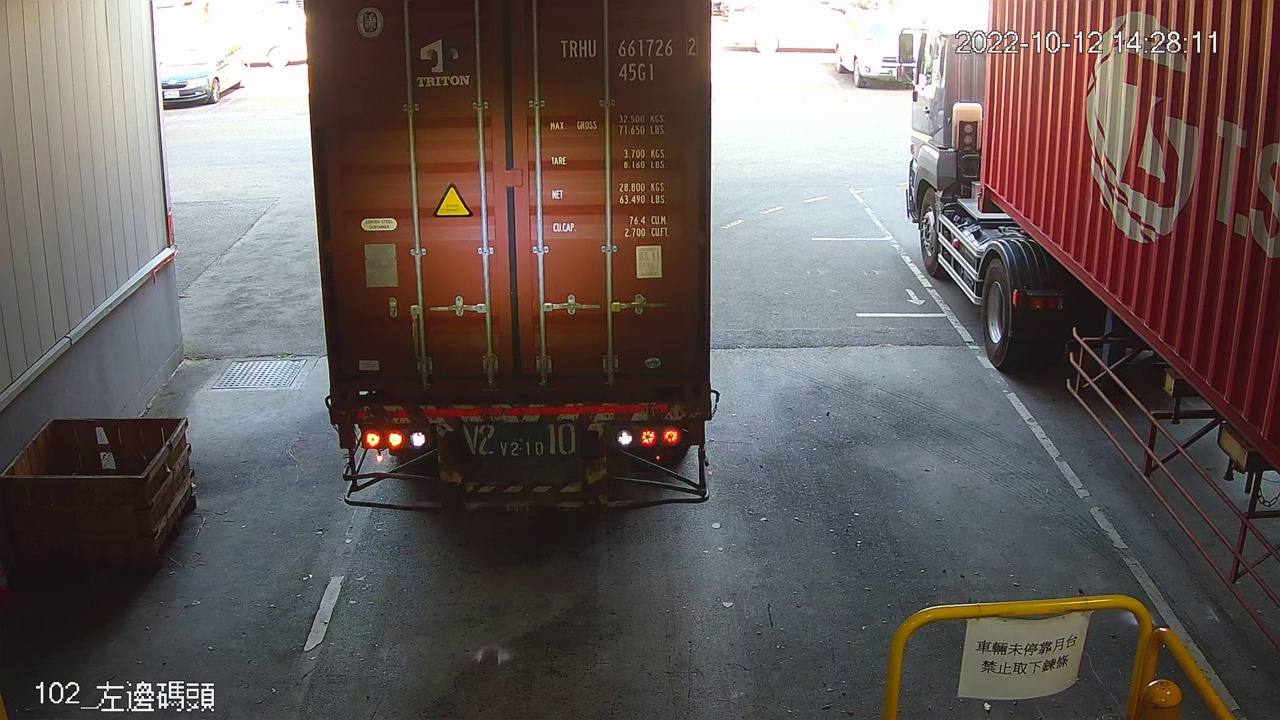container: (553, 30, 703, 87)
